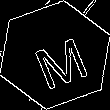M_N: (23, 23, 87, 87)
